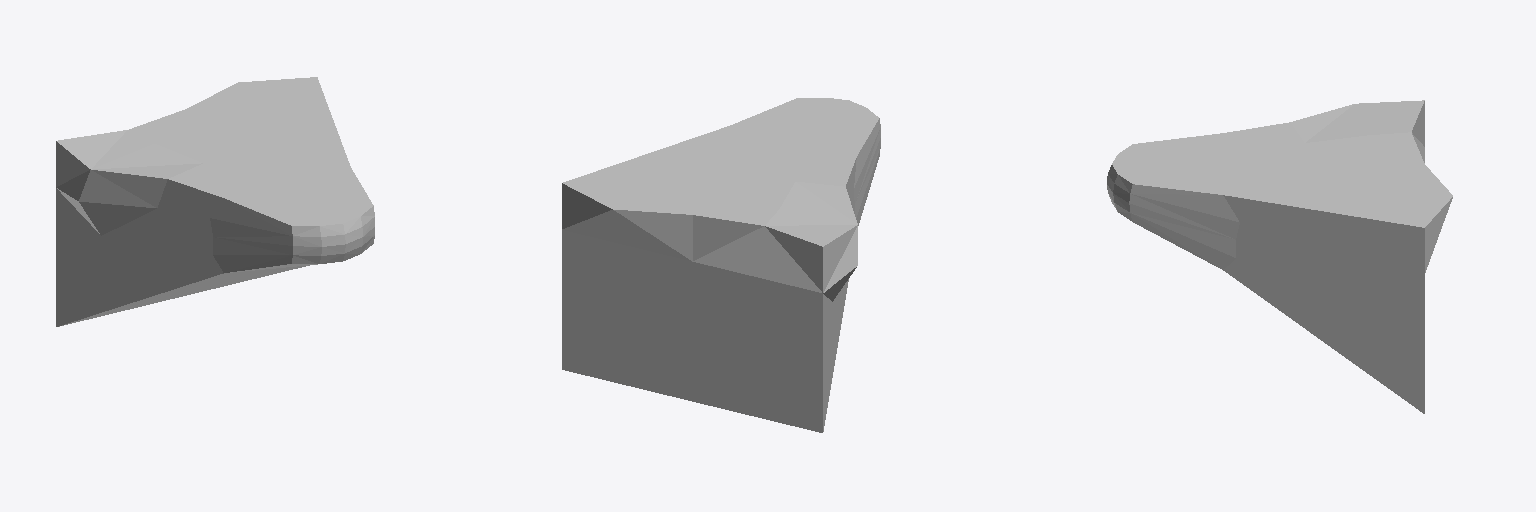
Rendered from mLv1MountainLoosePart.obj.
The picture shows the model from 3 angles: view 1: azimuth 30°, elevation 25°; view 2: azimuth 150°, elevation 25°; view 3: azimuth 270°, elevation 25°; orthographic projection.
Visible parts, largest first — view 1: mPeakLoosePart; view 2: mPeakLoosePart; view 3: mPeakLoosePart.
Boxes of the visible parts, box(x1,y1,x2,y2) form: mPeakLoosePart: box(56, 77, 374, 326); mPeakLoosePart: box(562, 98, 880, 432); mPeakLoosePart: box(1107, 100, 1452, 413).
Bounding box in the file's own units: 14.51 × 9.67 × 16.29.